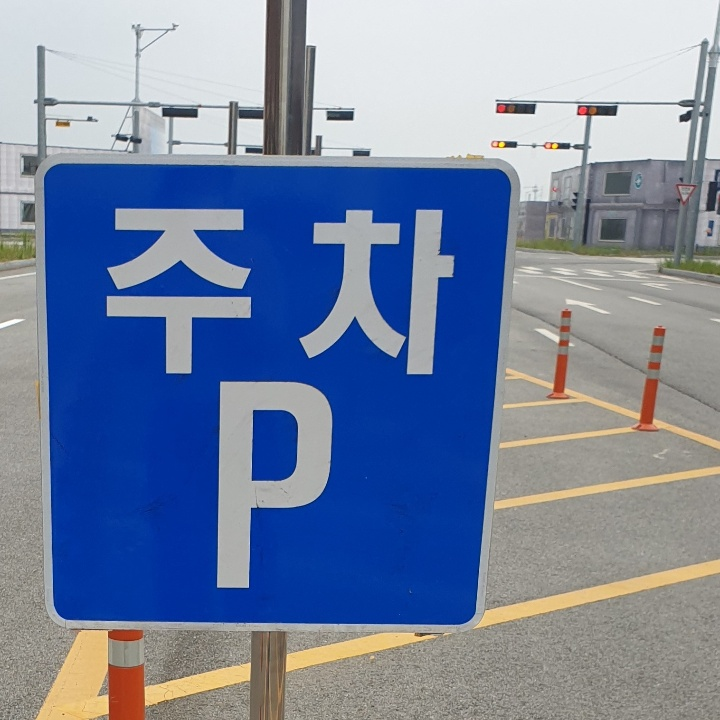parking: (202, 364, 340, 607)
